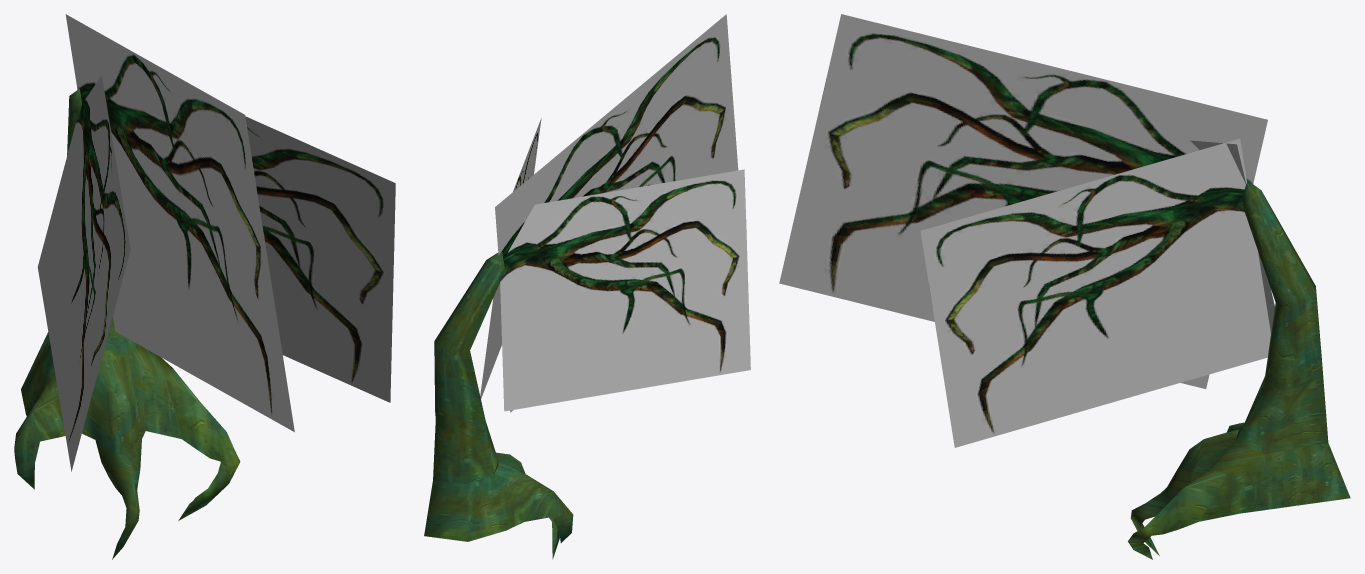
Rendered from INST_MIRK_TREE_SCARYD.fbx.
3 renders of one model, left to right at view 1: azimuth 30°, elevation 25°; view 2: azimuth 150°, elevation 25°; view 3: azimuth 270°, elevation 25°, orthographic. The views are drawn at different scales.
Parts seen in each view (by area): view 1: INST_MIRK_TREE_SCARYD; view 2: INST_MIRK_TREE_SCARYD; view 3: INST_MIRK_TREE_SCARYD.
Boxes of the visible parts, x1=… form: INST_MIRK_TREE_SCARYD: x1=14, y1=14, x2=395, y2=559; INST_MIRK_TREE_SCARYD: x1=424, y1=14, x2=750, y2=559; INST_MIRK_TREE_SCARYD: x1=779, y1=14, x2=1350, y2=559.
Size of the model in its own units: 62324 by 112294 by 111274.
Materials: 2 (2 with a texture image).
